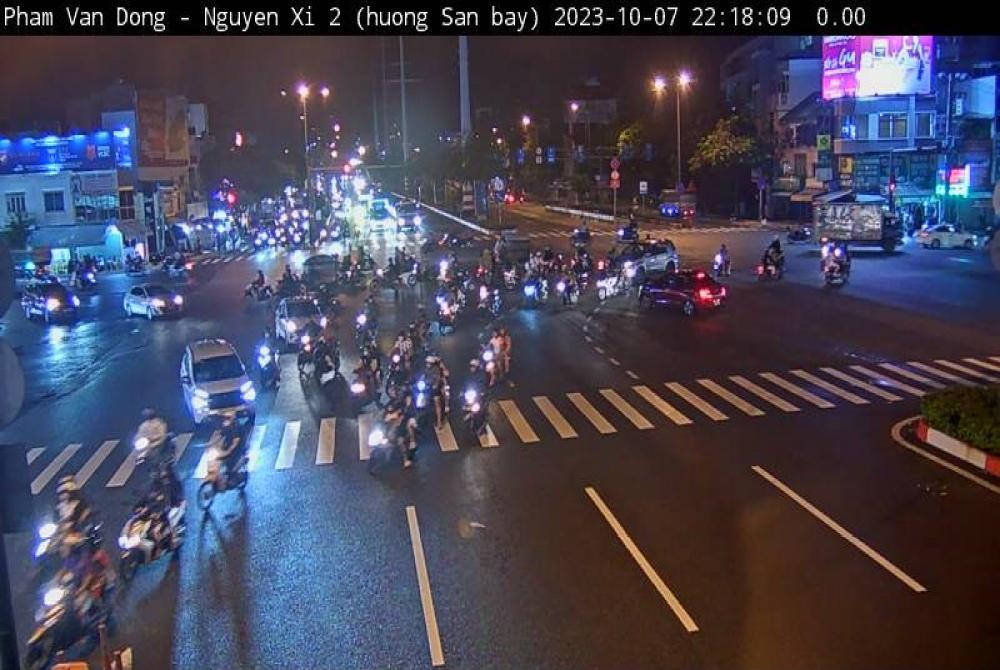car: (176, 328, 289, 442), (629, 263, 728, 318), (600, 230, 680, 294), (21, 278, 94, 344), (130, 278, 190, 346)
